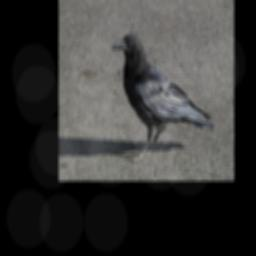Crow: (110, 30, 215, 161)
